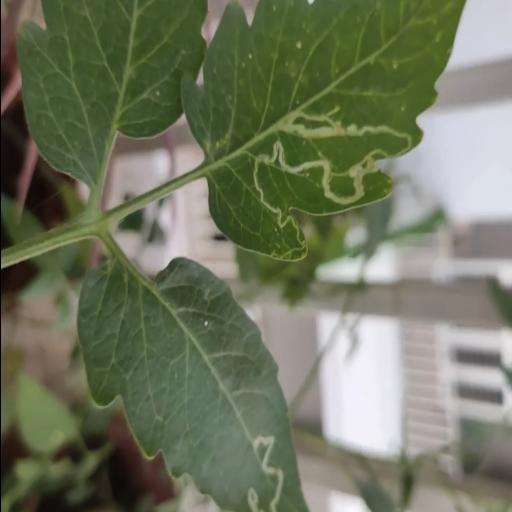Leaf Miner: (184, 0, 468, 266), (76, 259, 314, 512)
